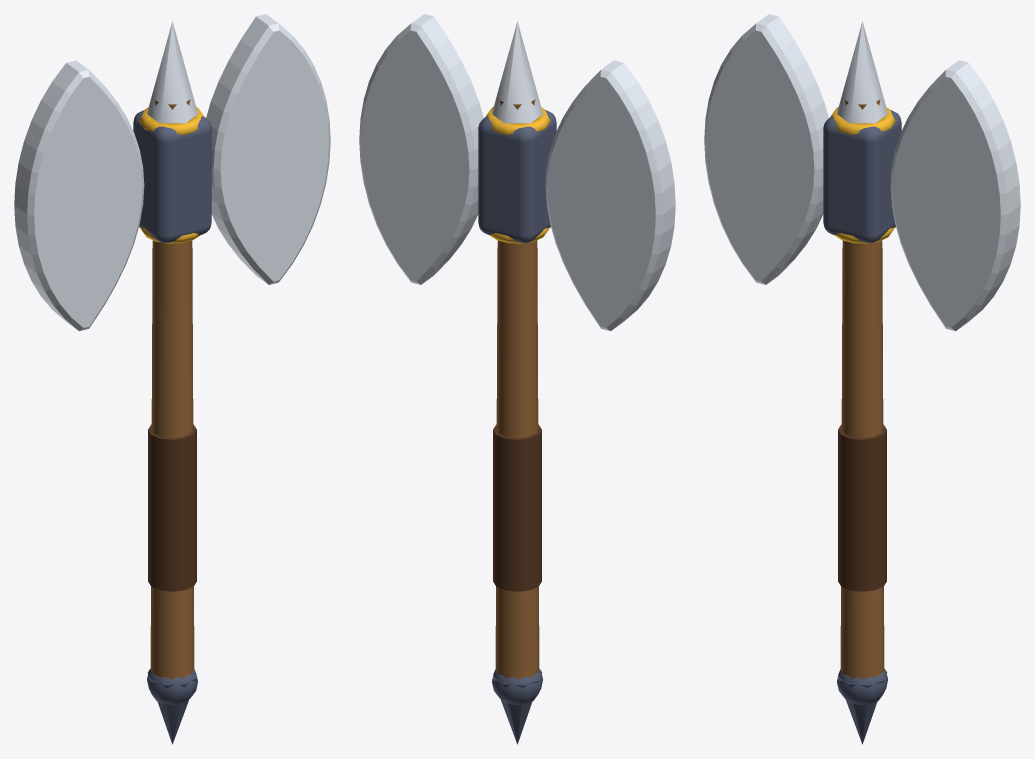
Rendered from axe_warrior.glb.
3 renders of one model, left to right at view 1: azimuth 30°, elevation 25°; view 2: azimuth 150°, elevation 25°; view 3: azimuth 330°, elevation 25°, orthographic.
Visible parts, largest first — view 1: BladeL, BladeR, Shaft, Hub, GripWrap, Spike, ButtCap, Butt, Band1; view 2: BladeL, BladeR, Shaft, Hub, GripWrap, Spike, ButtCap, Butt, Band1; view 3: BladeR, BladeL, Shaft, Hub, GripWrap, Spike, ButtCap, Butt, Band1.
Boxes of the visible parts, <box> form: BladeL: <box>14,60,144,331</box>; BladeR: <box>206,14,330,284</box>; Shaft: <box>150,99,194,679</box>; Hub: <box>133,110,211,242</box>; GripWrap: <box>148,424,196,591</box>; Spike: <box>147,21,197,123</box>; ButtCap: <box>147,669,197,705</box>; Butt: <box>147,669,197,744</box>; Band1: <box>139,107,204,134</box>; BladeL: <box>545,60,675,331</box>; BladeR: <box>359,14,483,284</box>; Shaft: <box>495,99,539,679</box>; Hub: <box>478,110,556,242</box>; GripWrap: <box>493,424,541,591</box>; Spike: <box>492,21,542,123</box>; ButtCap: <box>492,669,542,705</box>; Butt: <box>492,669,542,744</box>; Band1: <box>485,107,550,134</box>; BladeR: <box>890,60,1020,331</box>; BladeL: <box>704,14,828,284</box>; Shaft: <box>840,99,884,679</box>; Hub: <box>823,110,901,242</box>; GripWrap: <box>838,424,886,591</box>; Spike: <box>837,21,887,123</box>; ButtCap: <box>837,669,887,705</box>; Butt: <box>837,669,887,744</box>; Band1: <box>830,107,895,134</box>.
Size of the model in its own units: 0.544 by 1.24 by 0.1014.
